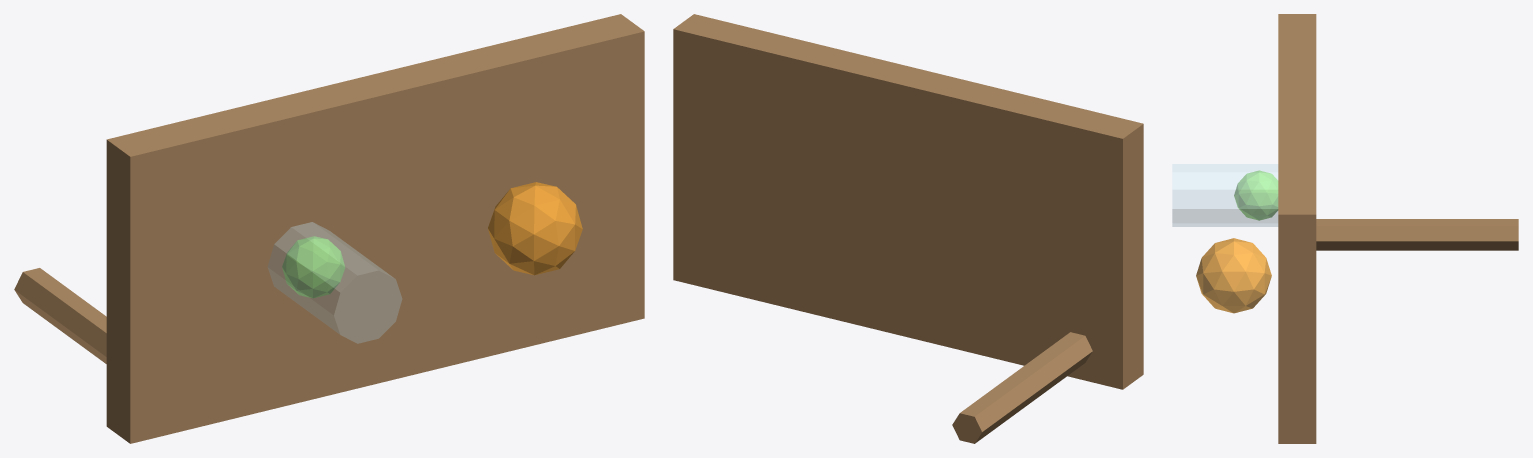
Rendered from alchemy_table_station.glb.
3 renders of one model, left to right at view 1: azimuth 30°, elevation 25°; view 2: azimuth 150°, elevation 25°; view 3: azimuth 270°, elevation 25°, orthographic. The views are drawn at different scales.
Visible parts, largest first — view 1: table, flask_a, orb, leg1, liquid; view 2: table, leg1; view 3: table, flask_a, leg1, orb, liquid.
Boxes of the visible parts, x1,y1,x2,y2 form: table: [106, 14, 644, 443]; flask_a: [268, 222, 401, 343]; orb: [488, 182, 582, 275]; leg1: [14, 268, 106, 363]; liquid: [282, 236, 345, 298]; table: [673, 14, 1143, 389]; leg1: [952, 332, 1092, 443]; table: [1278, 14, 1316, 443]; flask_a: [1172, 164, 1277, 226]; leg1: [1316, 219, 1518, 250]; orb: [1196, 238, 1271, 313]; liquid: [1234, 170, 1278, 220].
Size of the model in its own units: 1.5 by 0.8 by 1.1.
